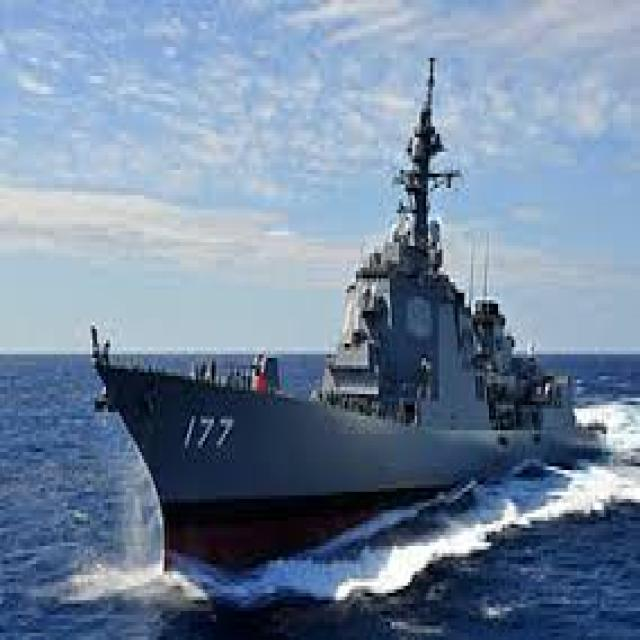navalvessels: (79, 66, 603, 550)
